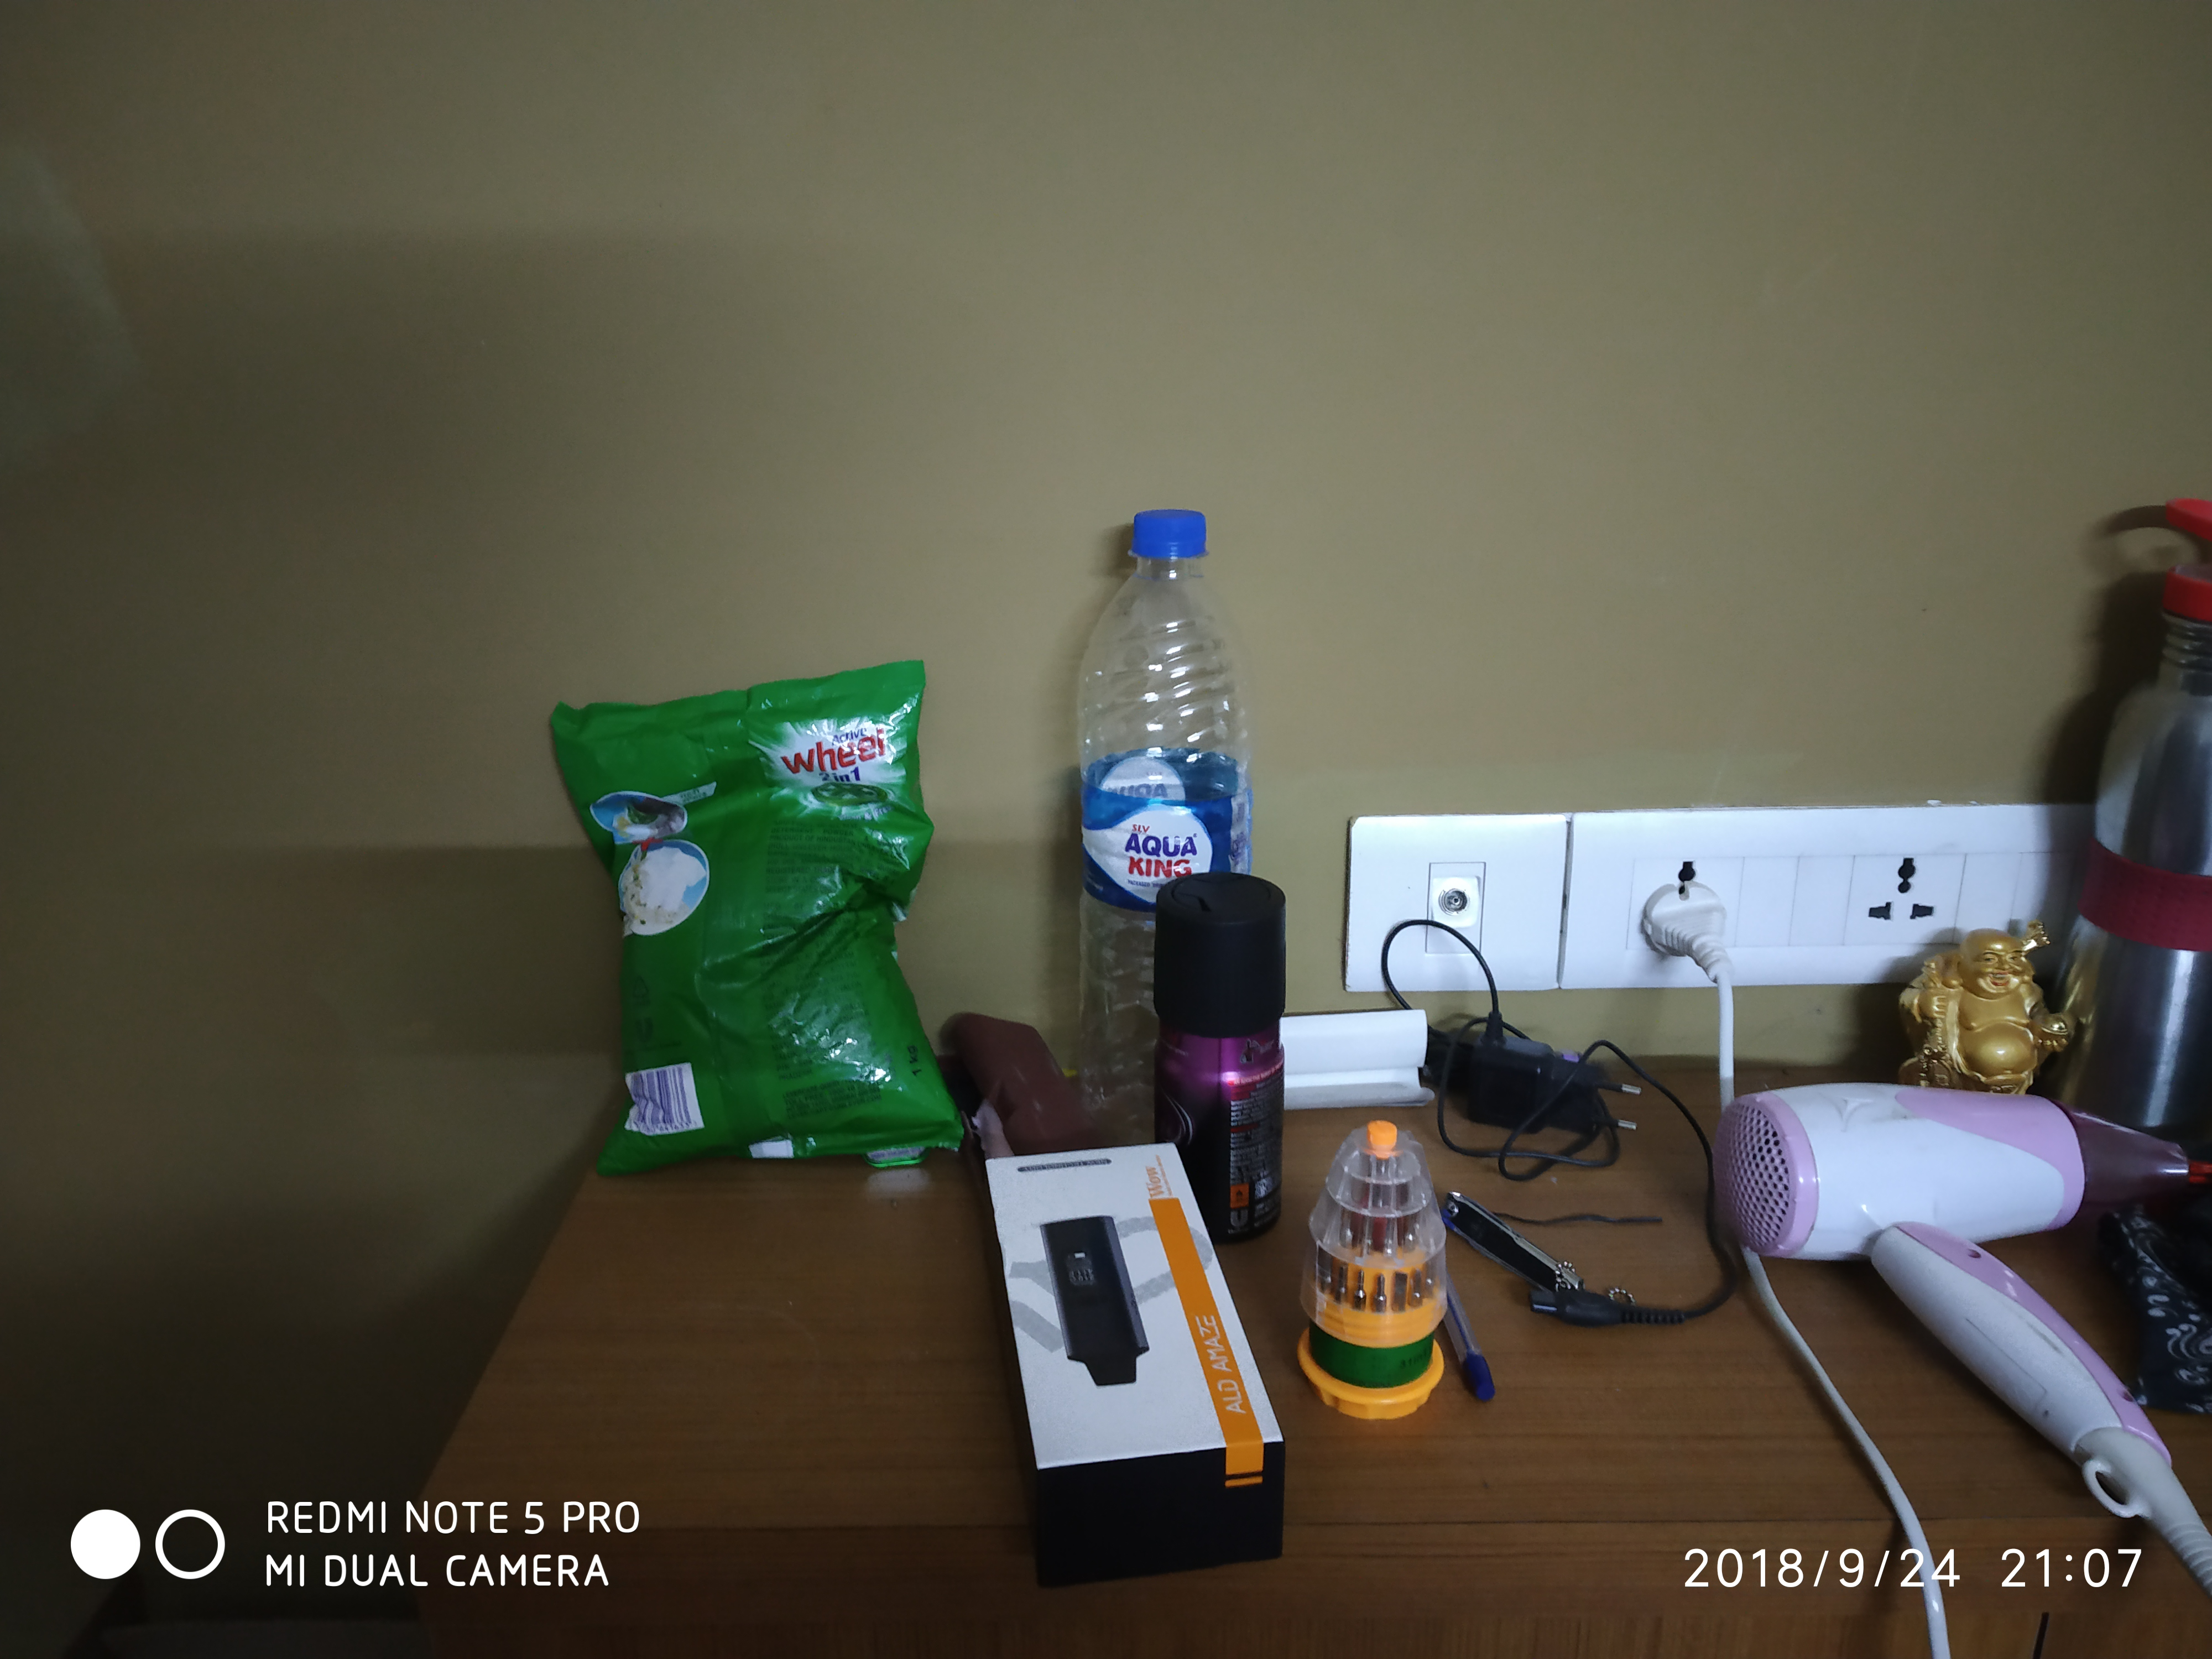detergent: (541, 674, 989, 1154)
